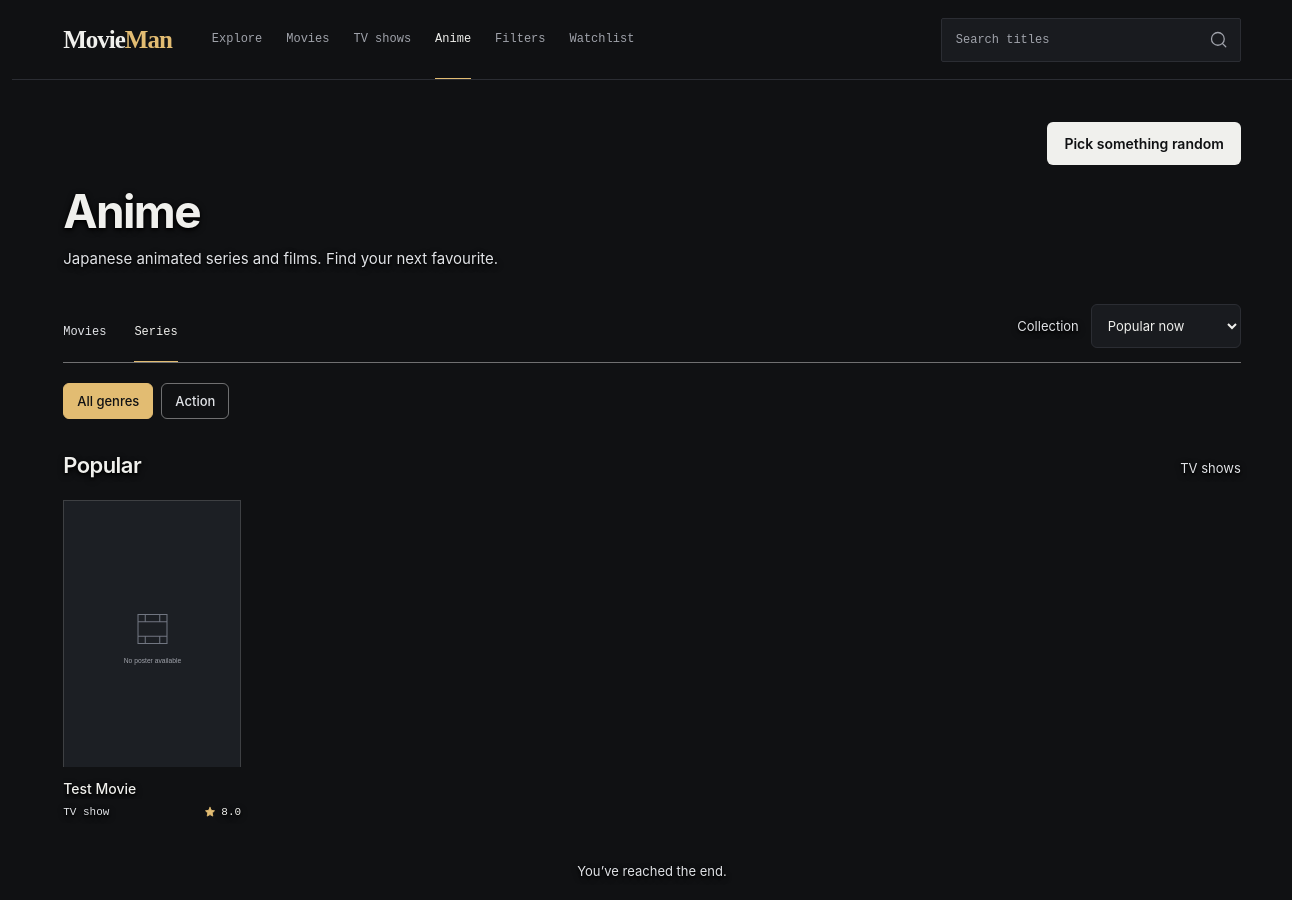
Anime retains Japanese animation constraints across genres, collections, and movie switching
Expected: the heading "Anime" is shown, [63,183,200,239]
Click the button "Action": coordinates (195, 401) [161,383,229,419]
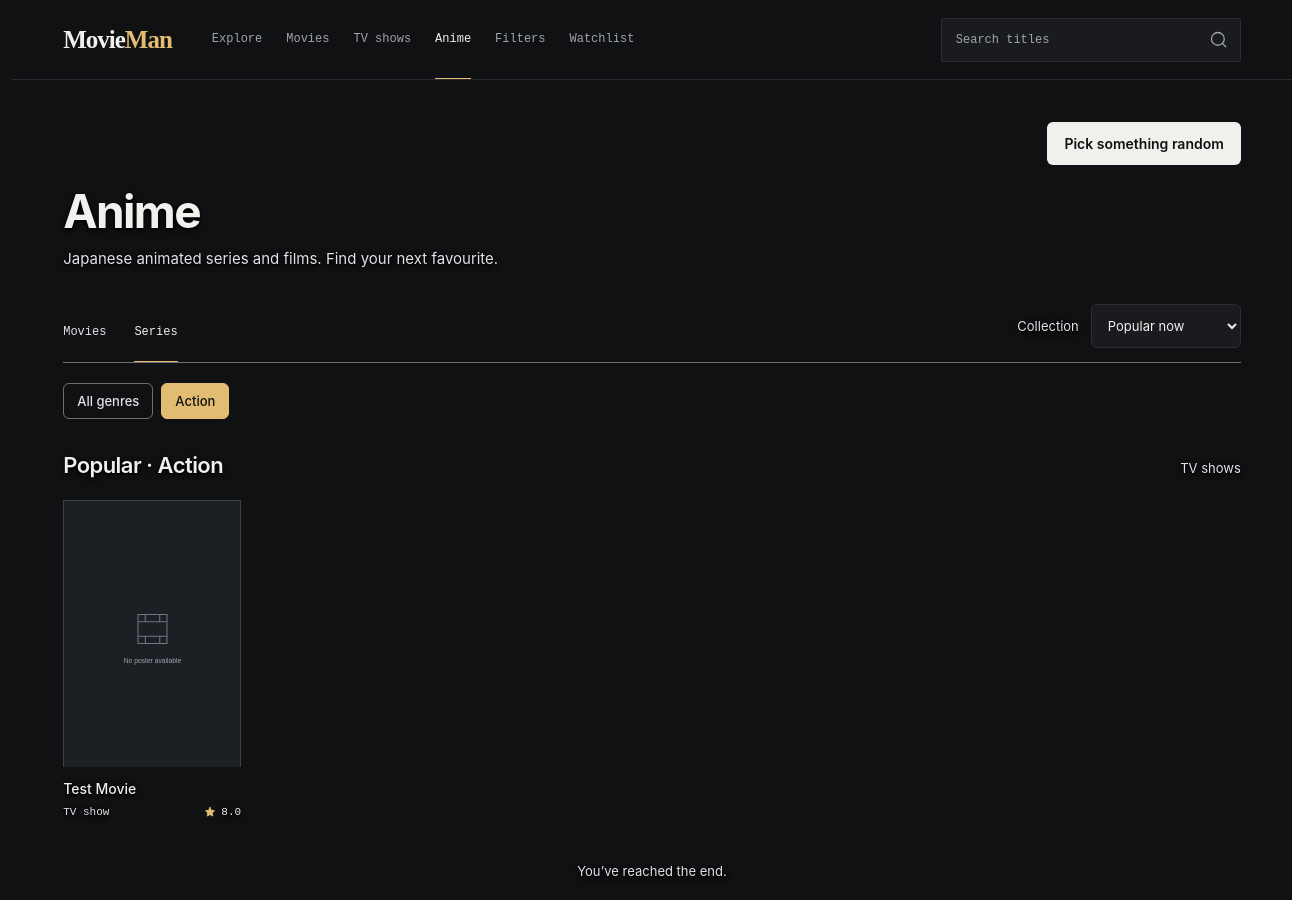
Select "Top rated" in the dropdown labelled "Collection": coordinates (1166, 326) [1091,304,1241,348]
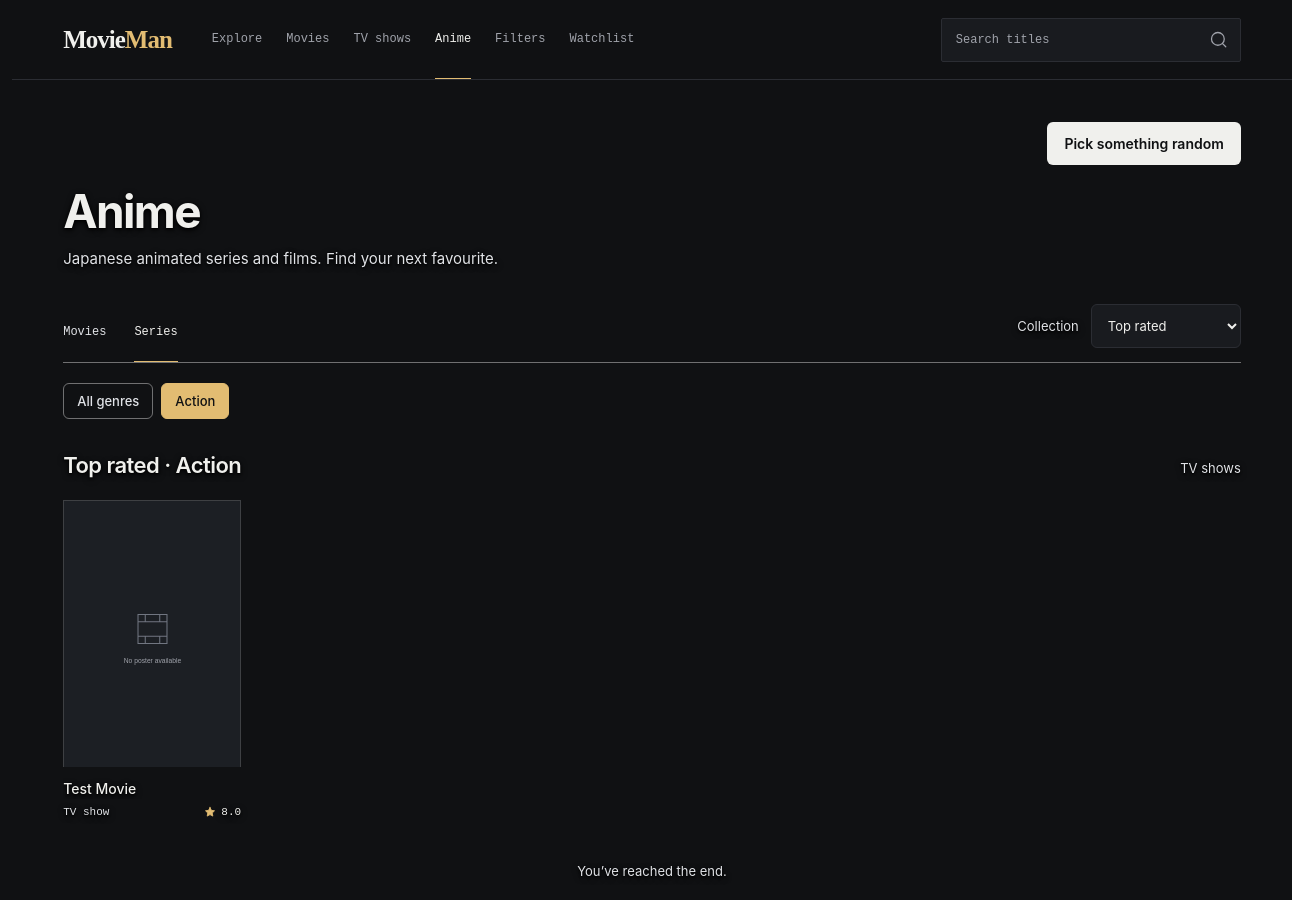
Click the button "Movies": coordinates (85, 340) [63,318,106,362]
(page scrolled)
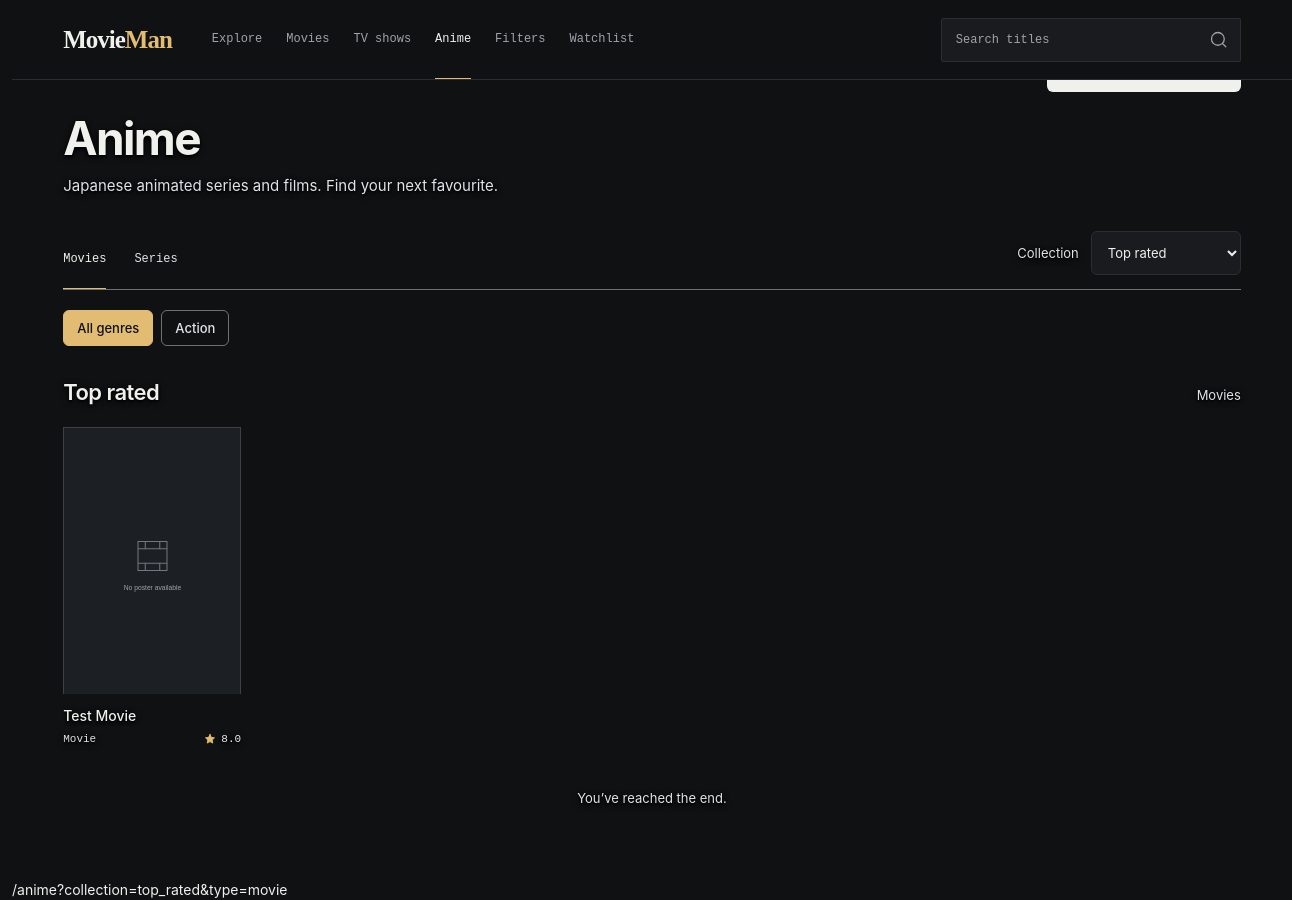
Expected: the text with test id "location" no longer shows "genre=", [12,881,288,898]
